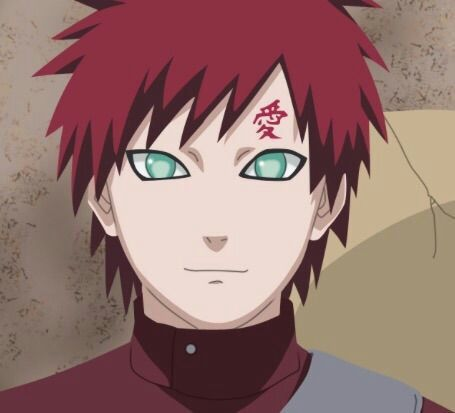gaara: (83, 50, 349, 335)
